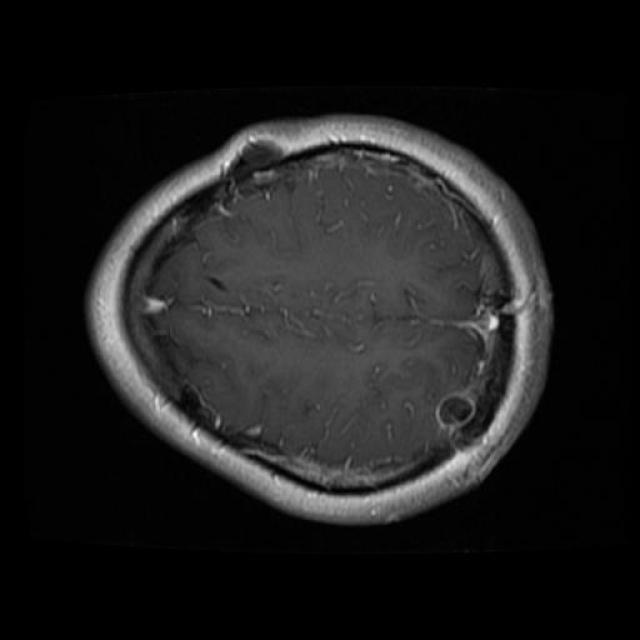Glioma: (435, 370, 486, 449)
